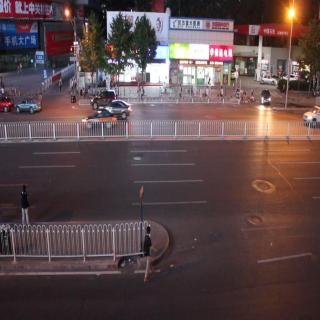Car: (82, 111, 116, 130), (16, 95, 41, 115), (91, 90, 115, 108), (302, 106, 320, 125), (261, 71, 276, 87), (260, 89, 271, 104)
